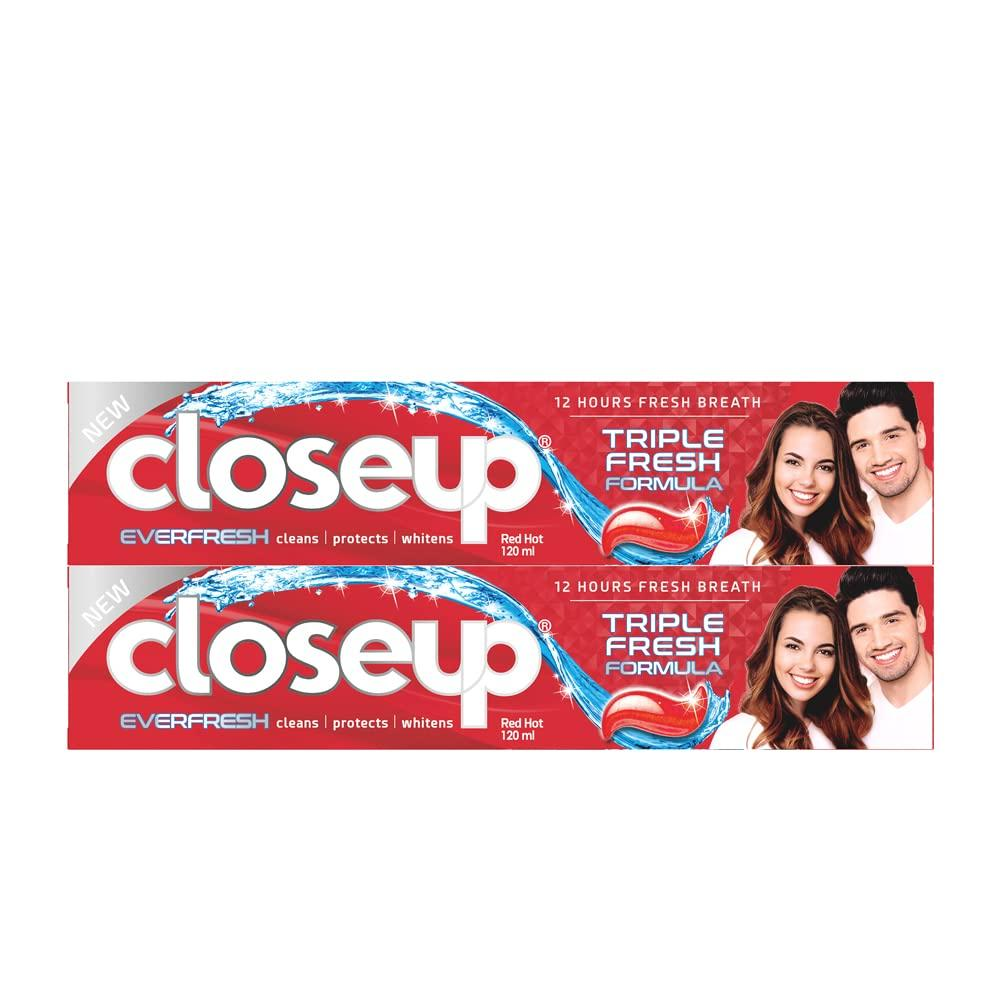CloseUp: (63, 371, 938, 571), (66, 563, 933, 759)
